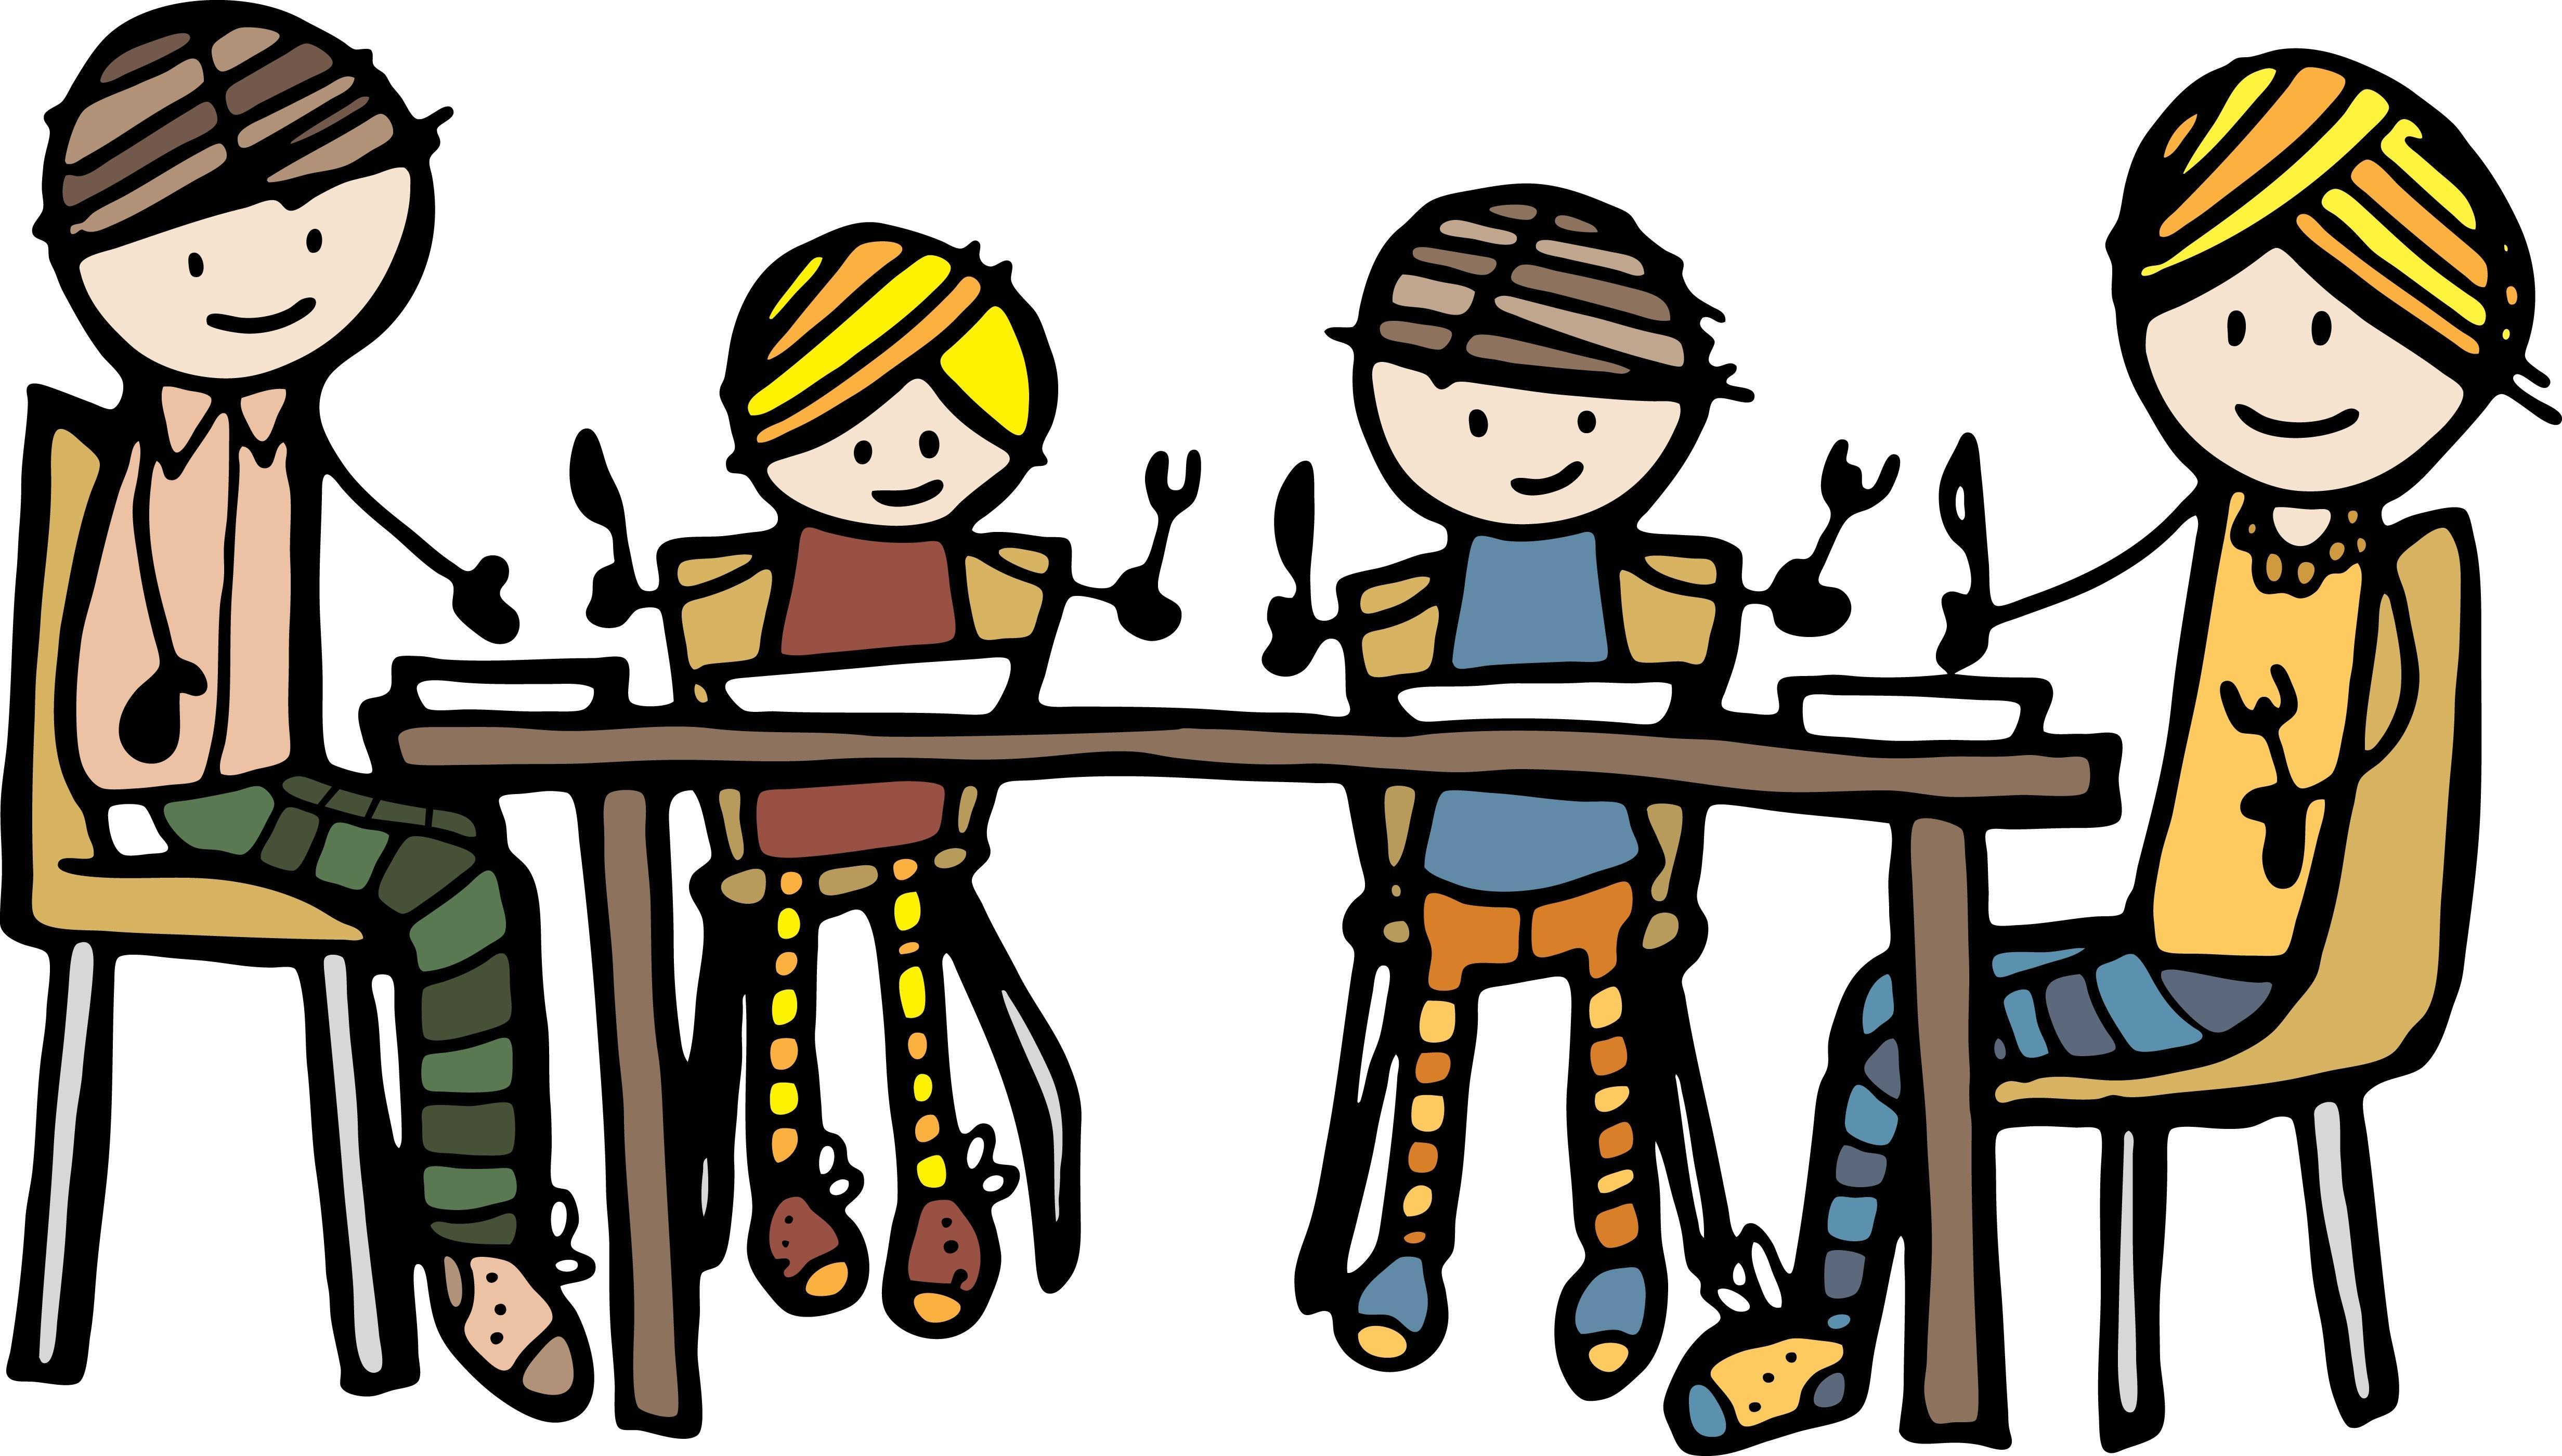chair: (1903, 490, 2518, 1456), (9, 356, 466, 1423), (1296, 512, 1775, 1294), (666, 531, 1118, 1316)
diningtable: (330, 635, 2152, 1453)
person: (1846, 46, 2530, 1456), (15, 8, 622, 1434), (1219, 180, 1859, 1428), (581, 197, 1132, 1360)
